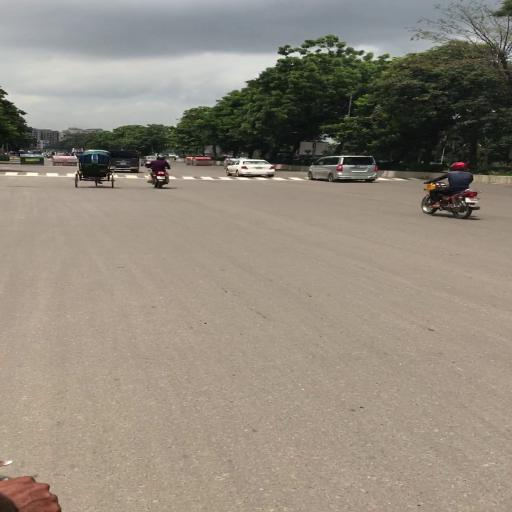car: (223, 159, 278, 179), (142, 157, 156, 165)
minivan: (306, 155, 382, 184)
motorbike: (419, 177, 484, 221), (148, 165, 172, 190)
rickshaw: (77, 151, 112, 188)
van: (113, 151, 141, 172)
